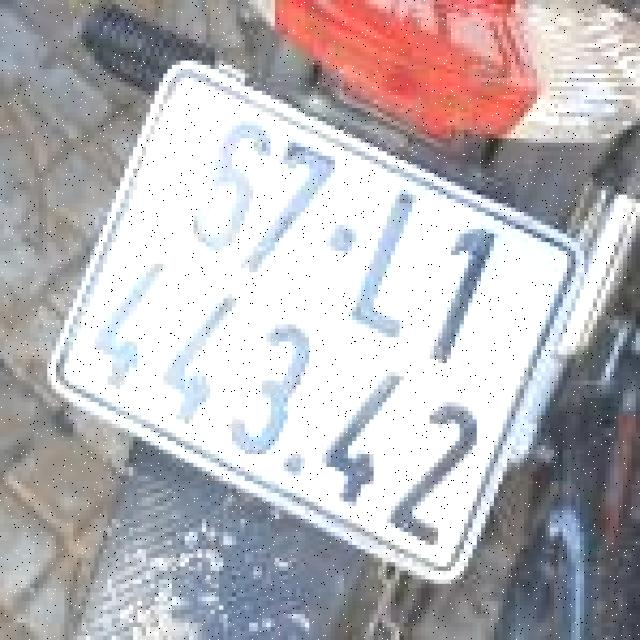1: (414, 213, 512, 378)
2: (371, 389, 501, 569)
3: (213, 310, 335, 472)
4: (142, 272, 274, 441), (306, 351, 432, 519), (76, 243, 199, 404)
6: (178, 105, 292, 268)
7: (229, 128, 351, 297)
L: (337, 177, 446, 353)
